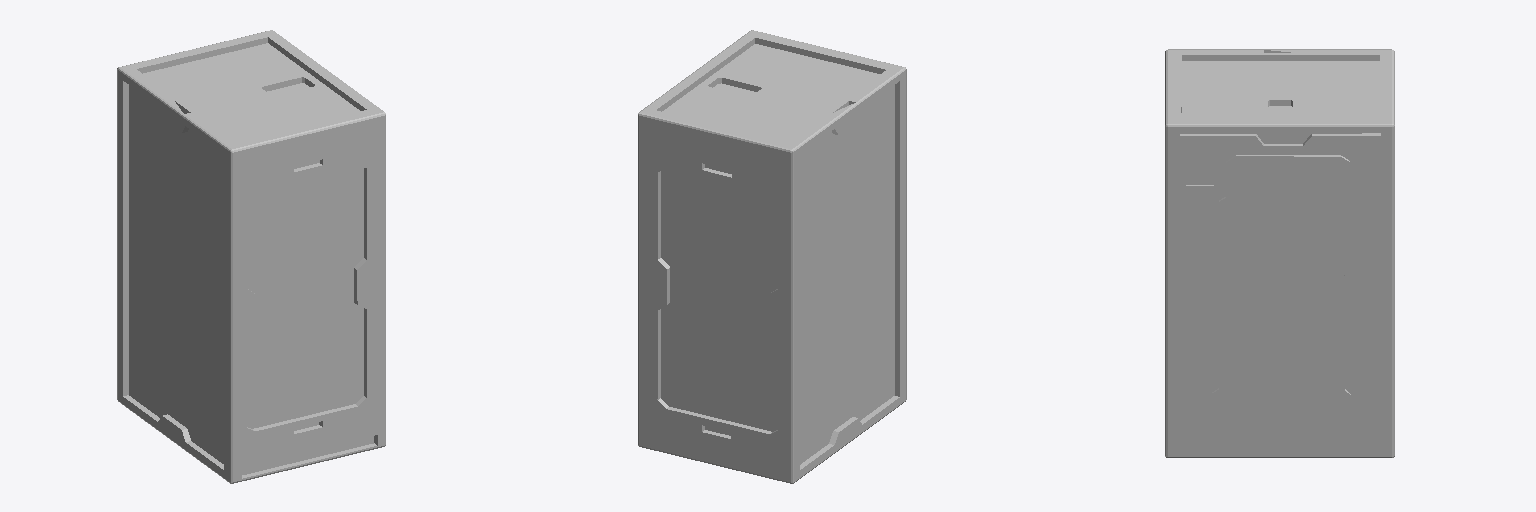
Rendered from machinery_2.obj.
The picture shows the model from 3 angles: view 1: azimuth 30°, elevation 25°; view 2: azimuth 150°, elevation 25°; view 3: azimuth 270°, elevation 25°; orthographic projection.
Visible parts, largest first — view 1: machinery_2; view 2: machinery_2; view 3: machinery_2.
Boxes of the visible parts, box(x1,y1,x2,y2) form: machinery_2: box(117, 30, 385, 483); machinery_2: box(638, 30, 906, 483); machinery_2: box(1165, 49, 1394, 457).
Size of the model in its own units: 0.58 by 1.12 by 0.7.